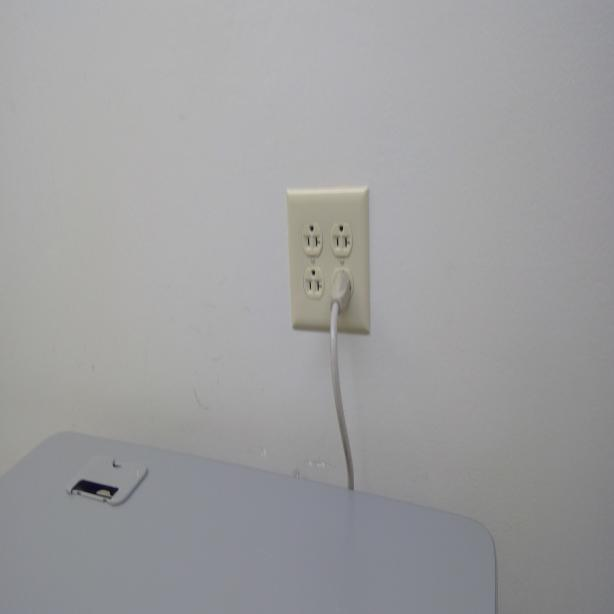typeb: (302, 268, 325, 302), (330, 222, 352, 255), (301, 220, 321, 254)
